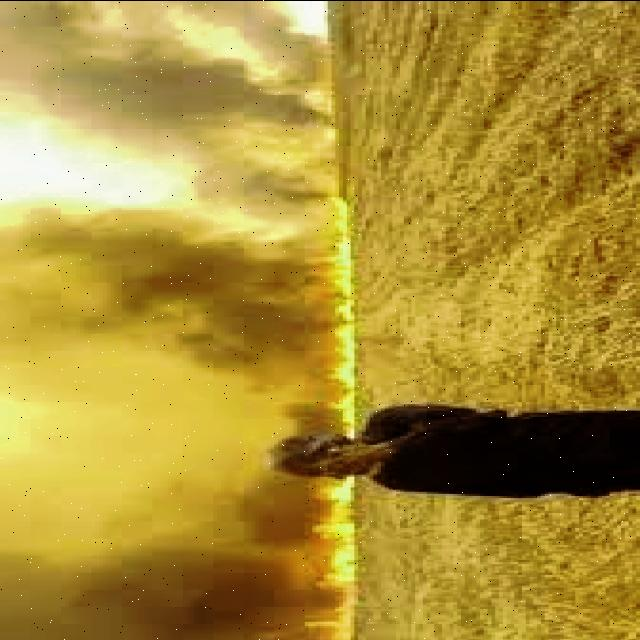api: (329, 198, 368, 434), (320, 479, 359, 640)
asap: (1, 218, 327, 640), (30, 2, 333, 200)
